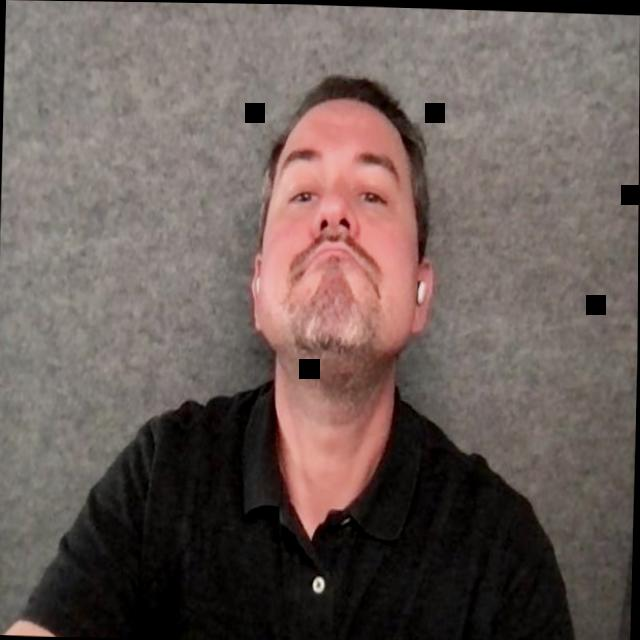NO-Mask: (248, 71, 435, 356)
